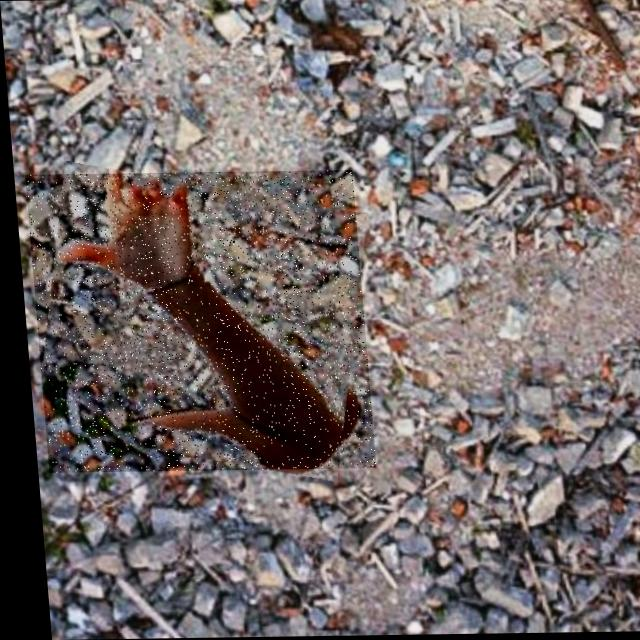Person in Rubble: (22, 170, 368, 472)
